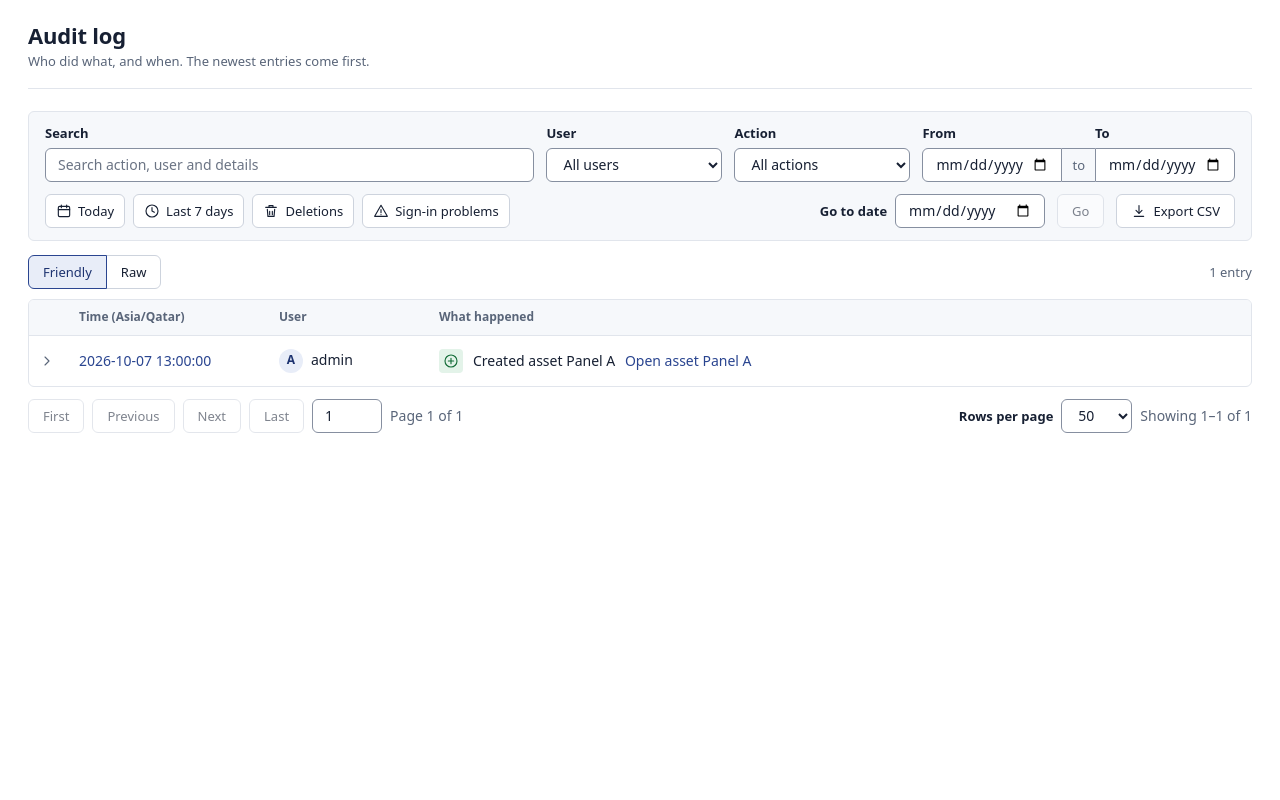
AuditPage › links an entry to the thing it is about, and its Details button opens a drawer (no row opens under it any more)
This screenshot has width=1280, height=800.
Expected: the text "Created asset Panel A" is shown, [473,351,615,370]
Click the button named "Details of entry #9" at (47, 361), box [33,347,61,375]
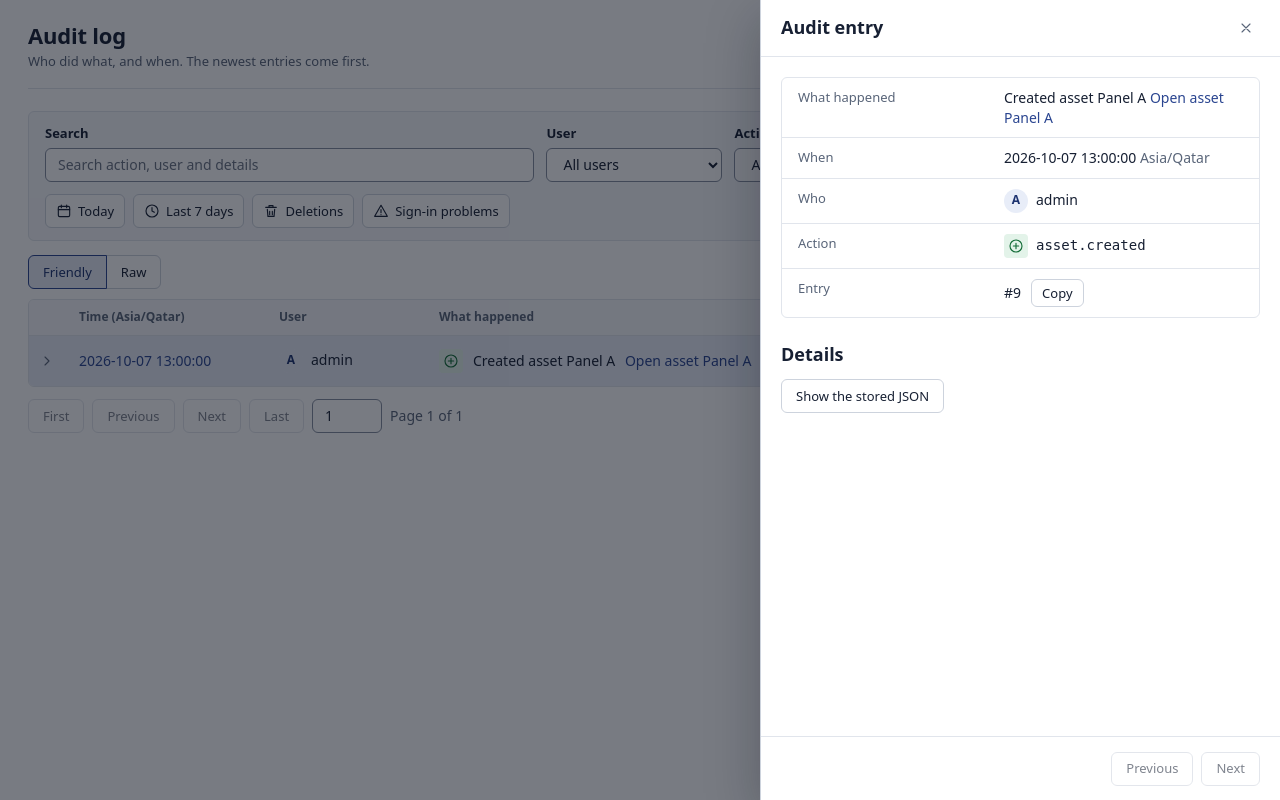
Expected: the dialog "Audit entry" is shown, [760,0,1279,799]
